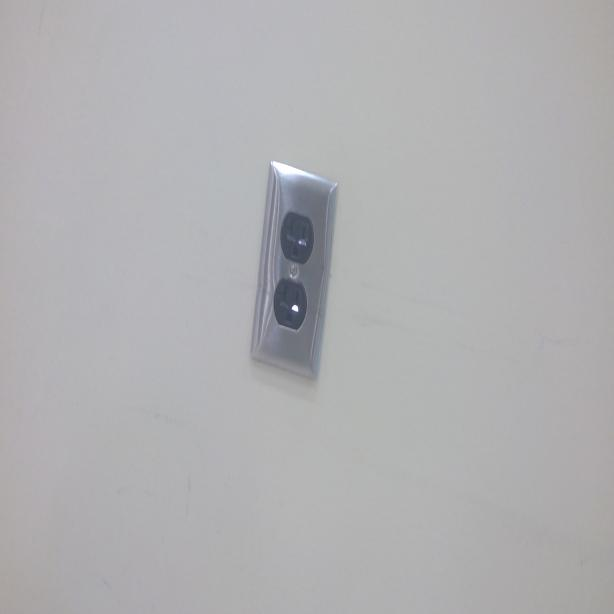typeb: (280, 214, 310, 260), (274, 280, 304, 326)
